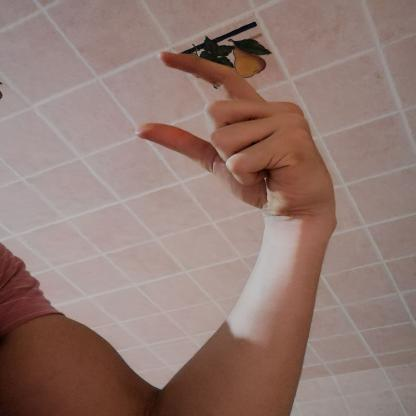DELL: (124, 41, 346, 224)
